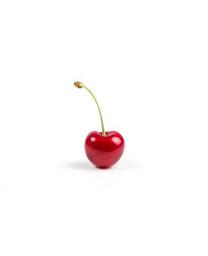cherry: (85, 130, 125, 171)
